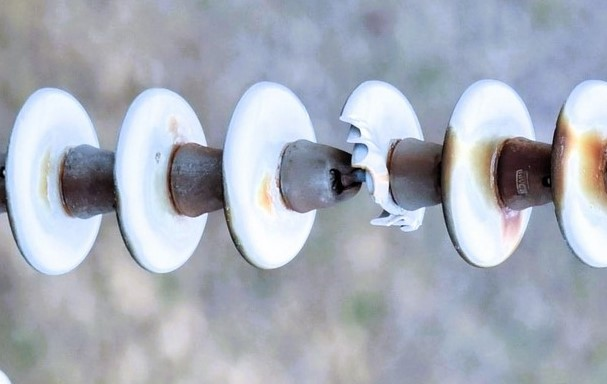insulator breakage: (335, 73, 431, 238)
